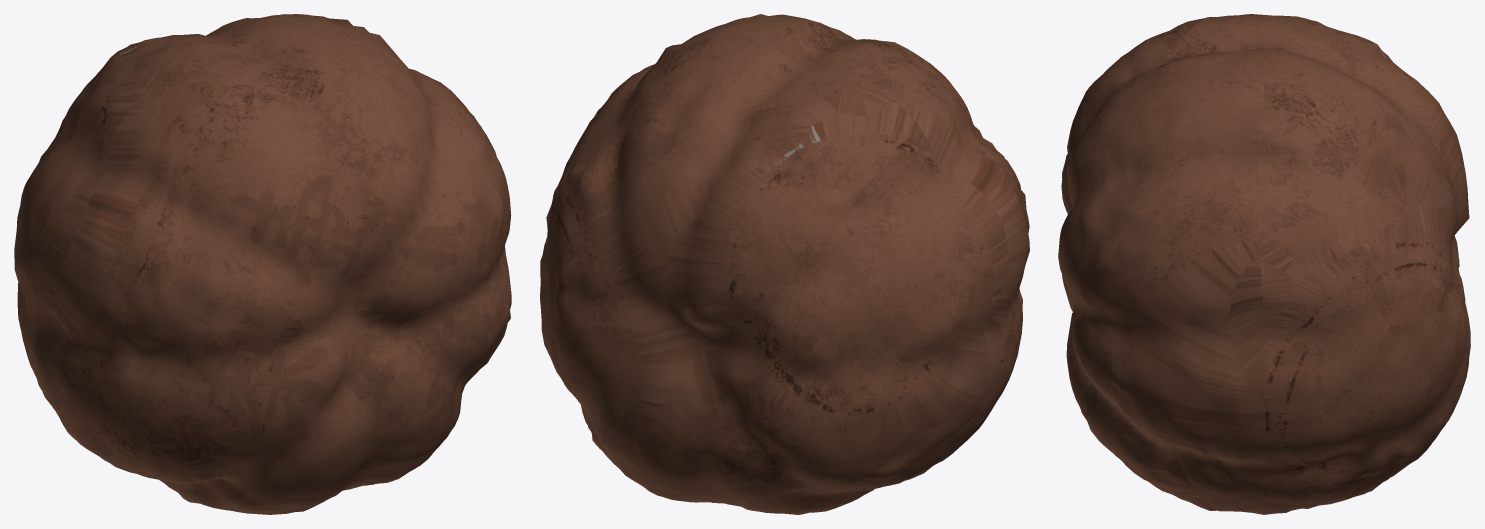
3 renders of one model, left to right at view 1: azimuth 30°, elevation 25°; view 2: azimuth 150°, elevation 25°; view 3: azimuth 270°, elevation 25°, orthographic. The views are drawn at different scales.
Bounding box in the file's own units: 1 × 0.9927 × 0.8612.
